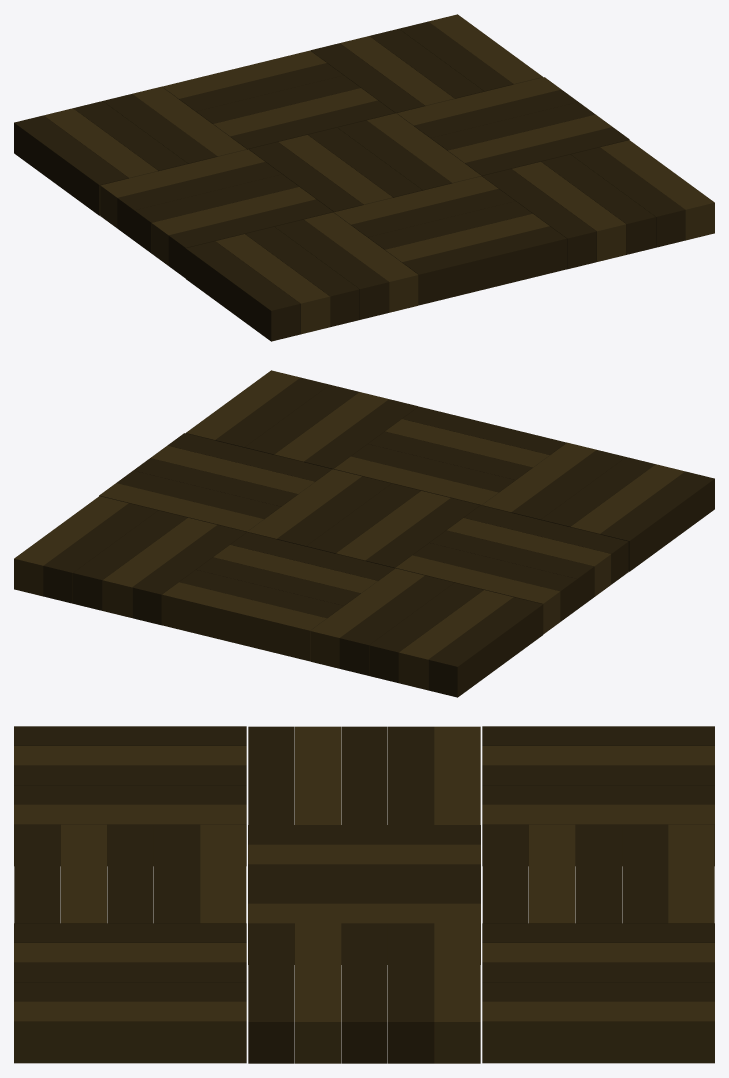
File: Floor.fbx
3 views of the same model, one above another, from view 1: azimuth 30°, elevation 25°; view 2: azimuth 150°, elevation 25°; view 3: azimuth 270°, elevation 25° (orthographic). The views are drawn at different scales.
Visible parts, largest first — view 1: floor; view 2: floor; view 3: floor.
Part boxes in pixels (x1,y1,x2,y2): floor: (14,14,714,341); floor: (14,370,714,697); floor: (14,726,714,1063).
Size of the model in its own units: 4.2 by 0.2775 by 4.21.
